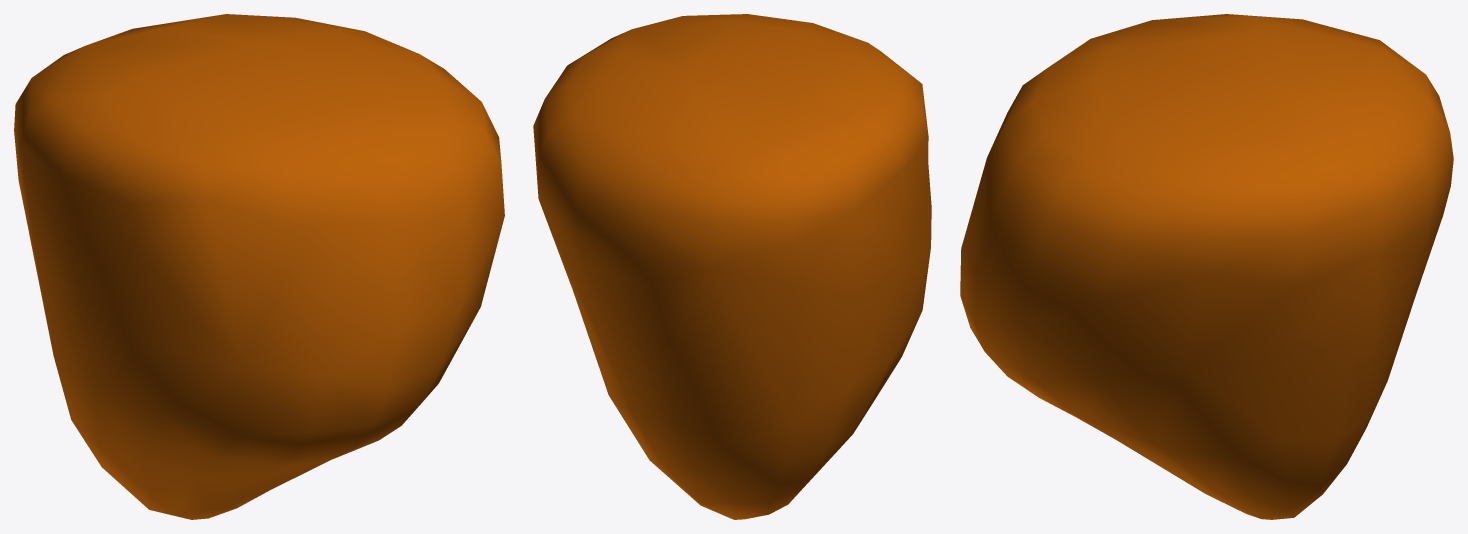
The model's file is ThyroidGland.fbx.
The picture shows the model from 3 angles, left to right: view 1: azimuth 30°, elevation 25°; view 2: azimuth 150°, elevation 25°; view 3: azimuth 270°, elevation 25°; orthographic projection. The views are drawn at different scales.
Visible parts, largest first — view 1: Thyroid_gland; view 2: Thyroid_gland; view 3: Thyroid_gland.
Part boxes in pixels (x1,y1,x2,y2): Thyroid_gland: (14, 14, 504, 519); Thyroid_gland: (533, 14, 931, 519); Thyroid_gland: (960, 14, 1453, 519).
Bounding box in the file's own units: 0.8083 × 0.9295 × 0.9124.
